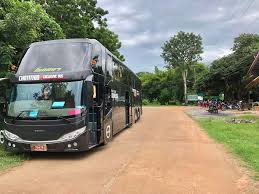bus: (4, 38, 143, 153)
